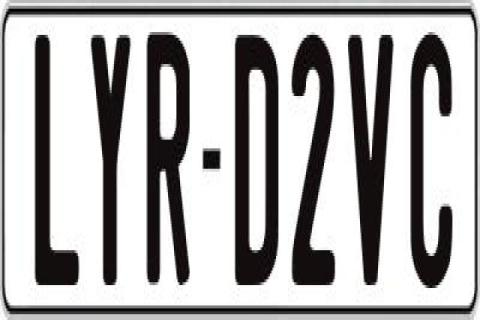0: (290, 29, 336, 279)
C: (406, 32, 456, 296)
D: (234, 26, 278, 291)
L: (34, 32, 78, 291)
R: (144, 29, 192, 299)
V: (344, 27, 392, 280)
Y: (88, 29, 130, 291)
